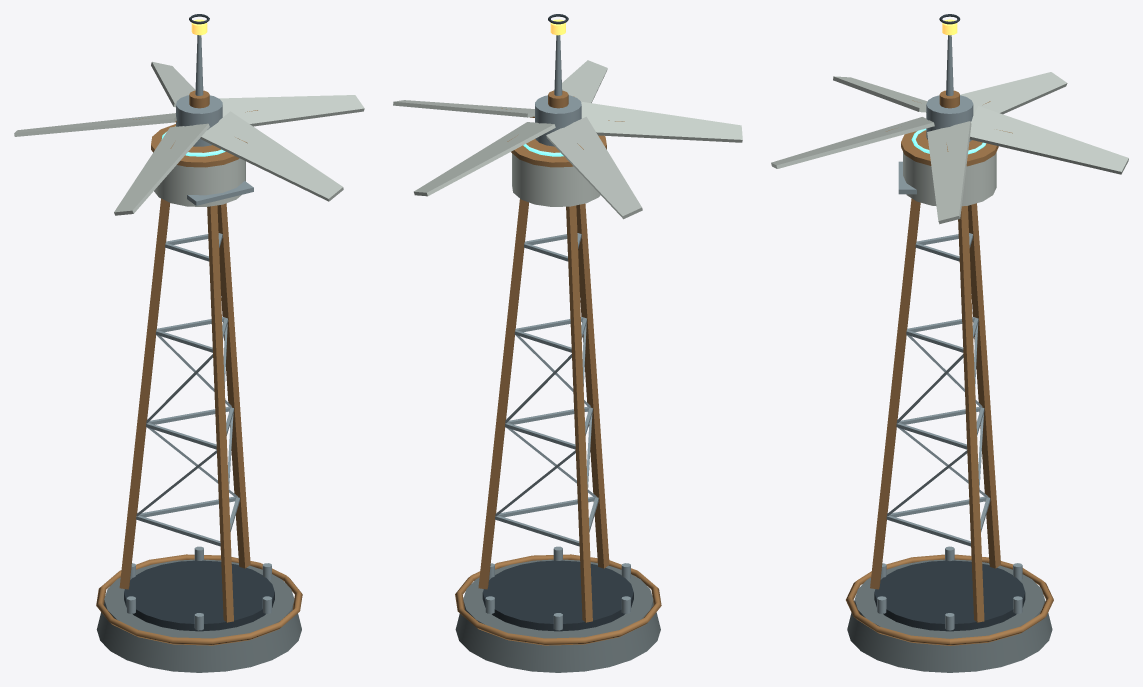
File: tidal-turbine.lod2.glb
The picture shows the model from 3 angles, left to right: view 1: azimuth 30°, elevation 25°; view 2: azimuth 150°, elevation 25°; view 3: azimuth 270°, elevation 25°; orthographic projection.
Visible parts, largest first — view 1: structure, turbine_rotor; view 2: structure, turbine_rotor; view 3: structure, turbine_rotor.
Boxes of the visible parts, <box> form: structure: <box>96,14,302,672</box>; turbine_rotor: <box>14,61,364,215</box>; structure: <box>455,14,661,672</box>; turbine_rotor: <box>393,60,742,219</box>; structure: <box>846,14,1053,672</box>; turbine_rotor: <box>771,72,1128,224</box>.
Size of the model in its own units: 11.3 by 22.35 by 11.85.
